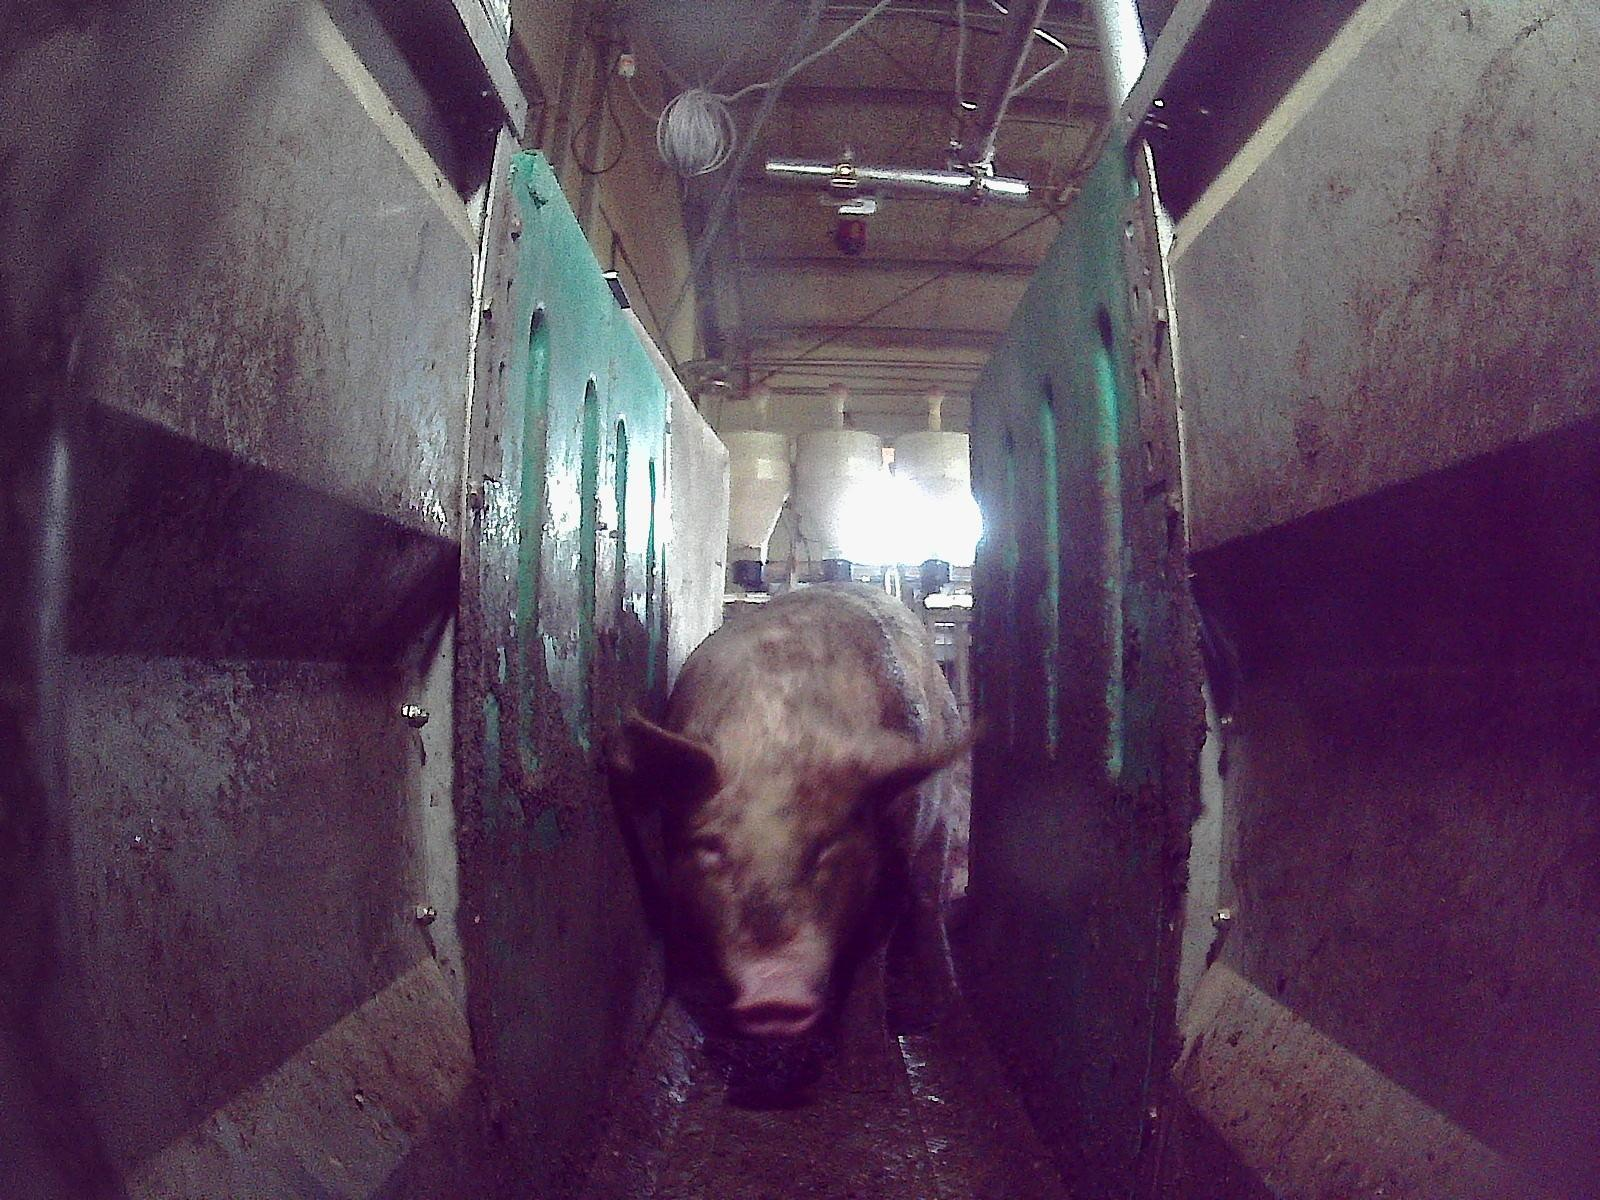Face: (669, 728, 883, 1034)
